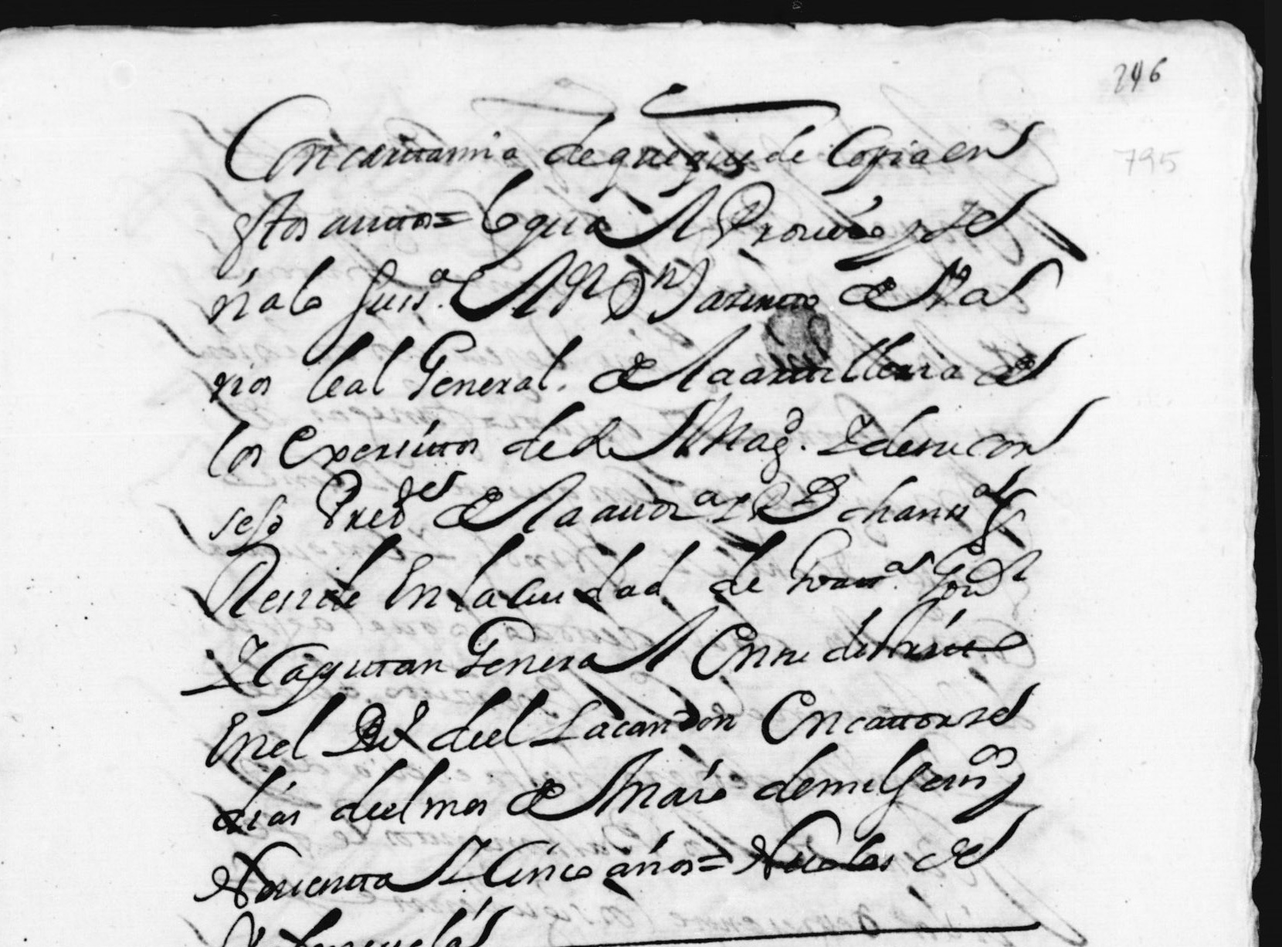lacandon: (528, 699, 737, 748)
